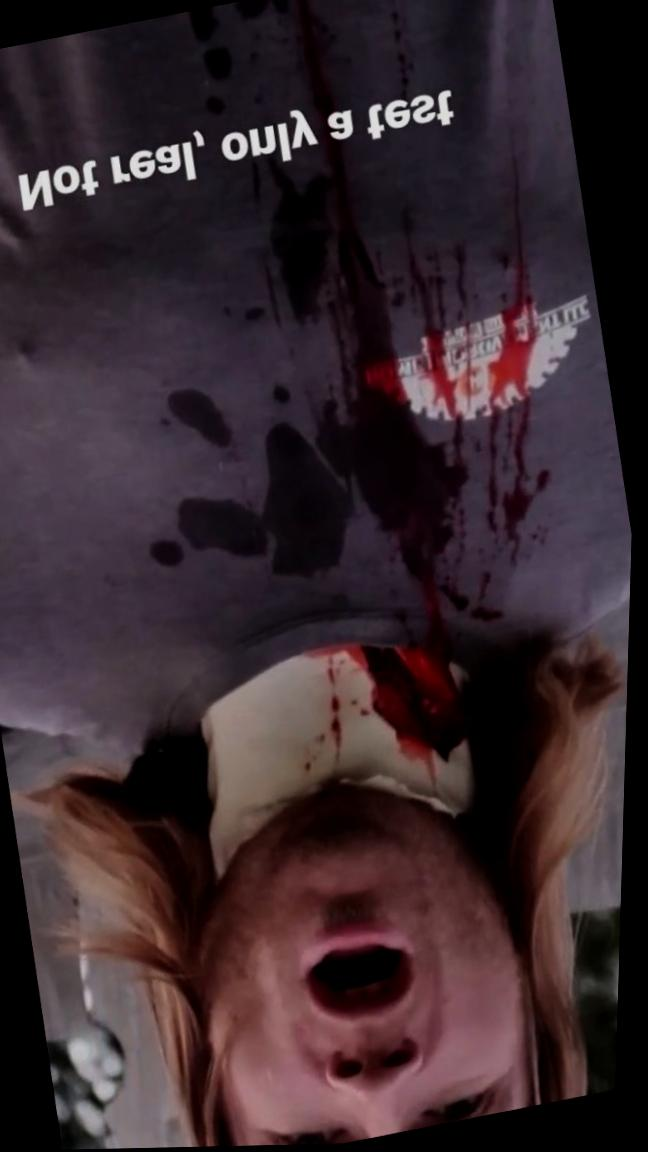Fire: (268, 0, 552, 788)
